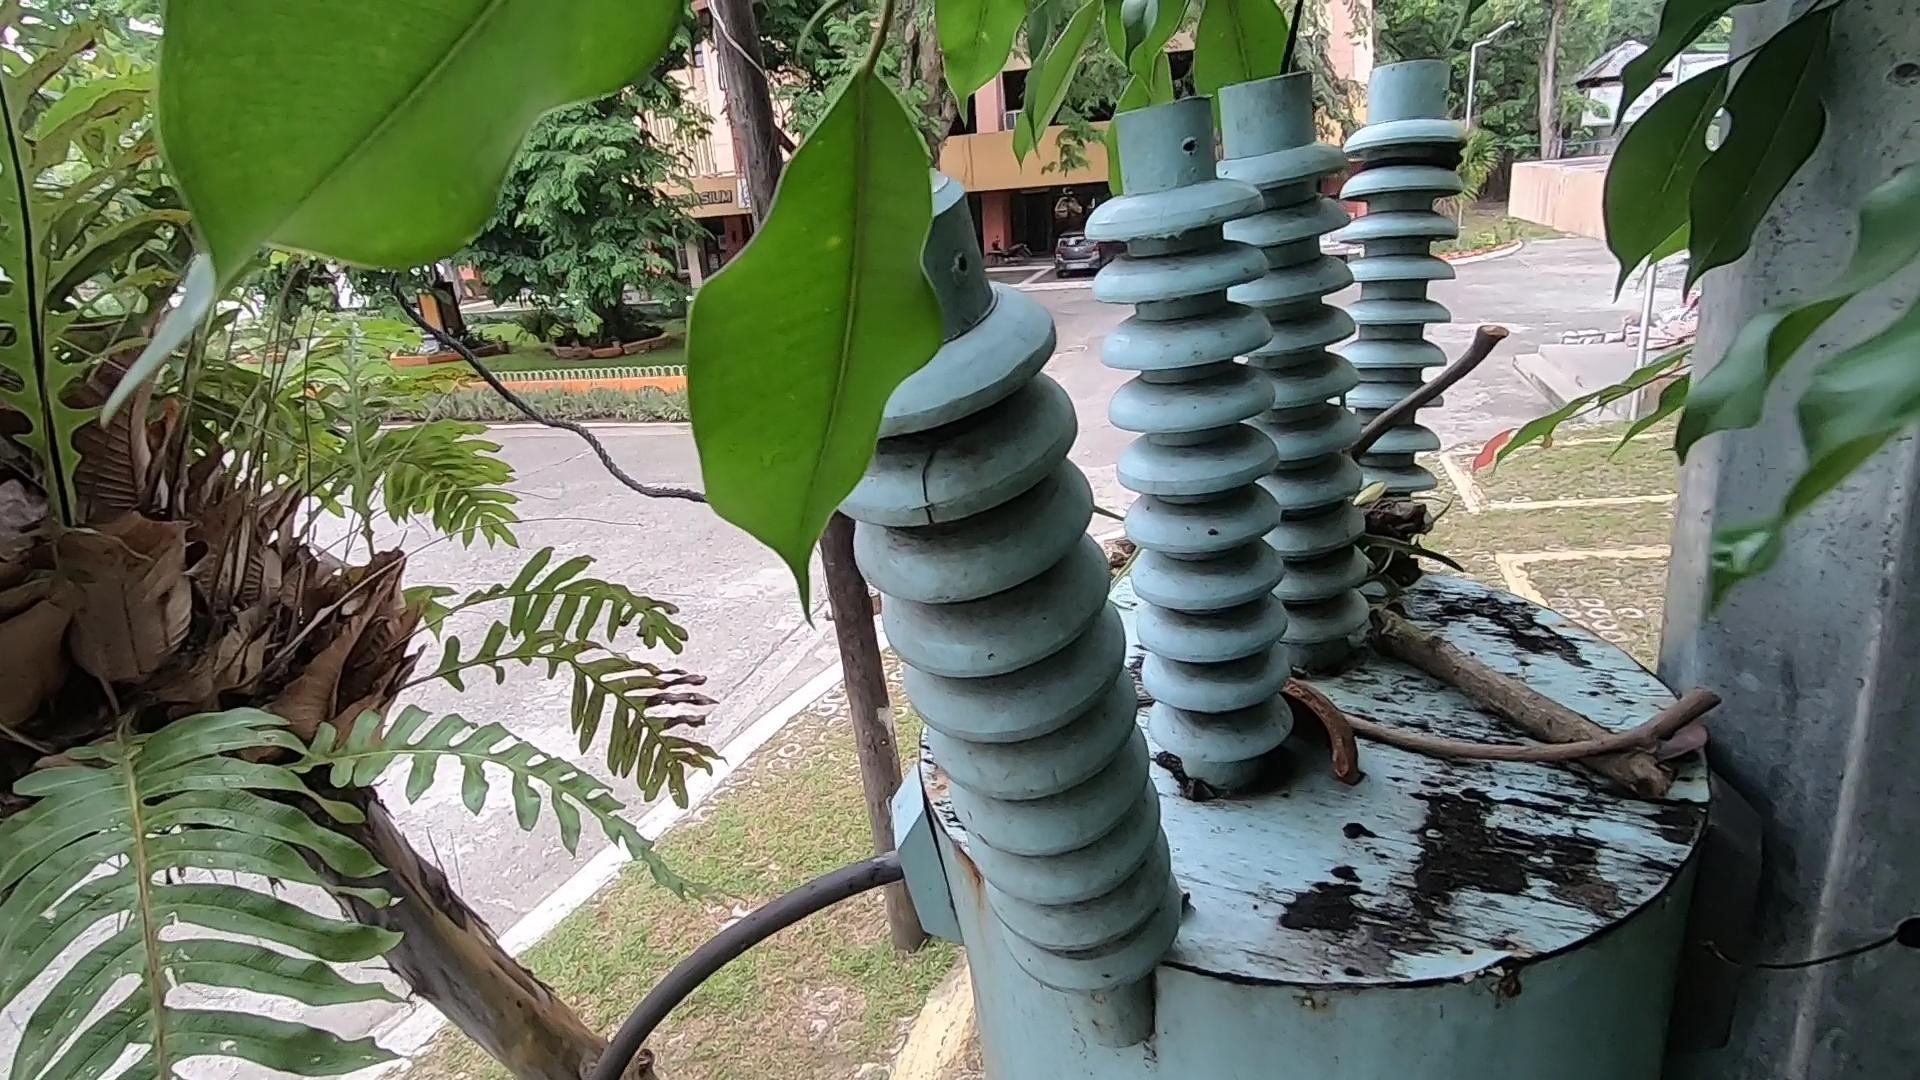branch with leaves: (1244, 429, 1760, 840)
leaf: (1606, 663, 1743, 819)
mahogany fruit: (1249, 630, 1470, 876)
tree branch: (1320, 236, 1629, 491), (1284, 678, 1735, 808)
